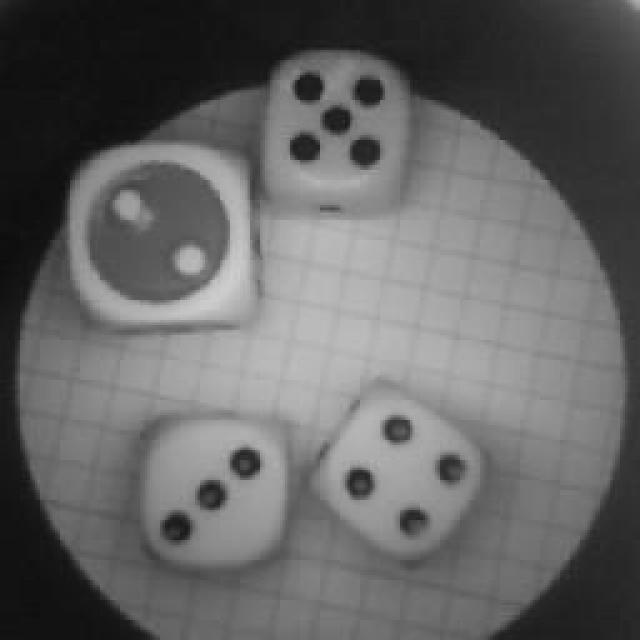dice_2: (58, 138, 270, 338)
dice_3: (125, 400, 303, 572)
dice_4: (297, 375, 495, 577)
dice_5: (258, 48, 422, 208)
